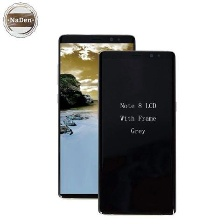phone: (54, 31, 140, 201), (96, 46, 179, 216)
